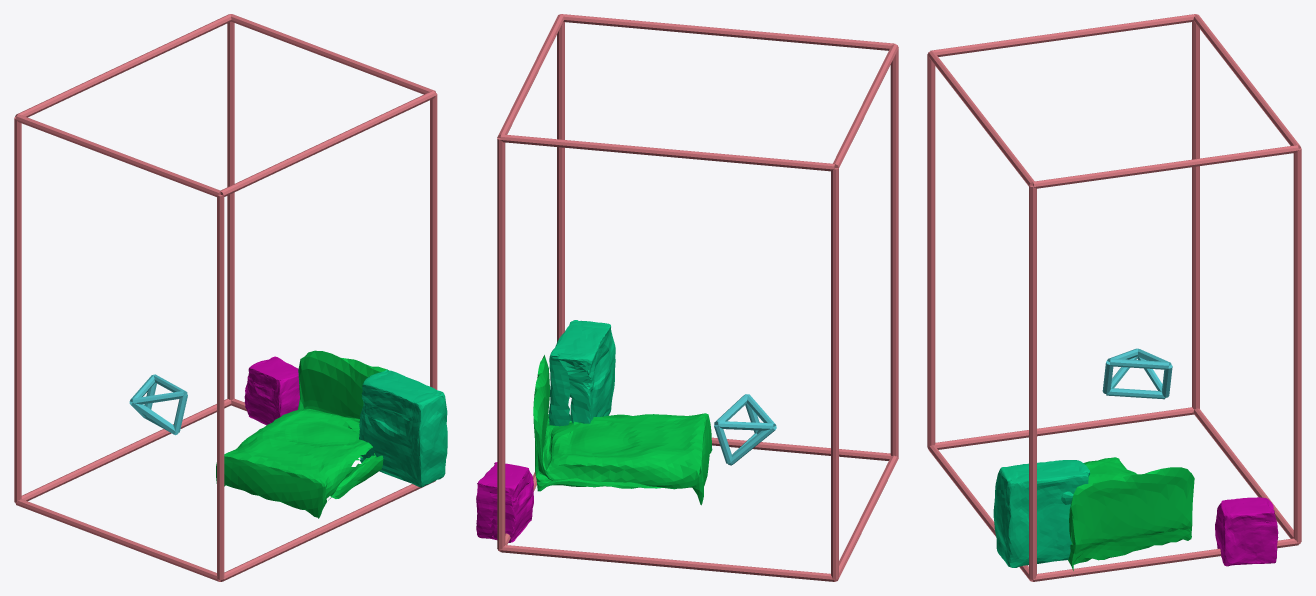
The picture shows the model from 3 angles, left to right: view 1: azimuth 30°, elevation 25°; view 2: azimuth 150°, elevation 25°; view 3: azimuth 270°, elevation 25°; orthographic projection. The views are drawn at different scales.
Parts seen in each view (by area): view 1: world; view 2: world; view 3: world.
Boxes of the visible parts, box(x1,y1,x2,y2) form: world: box(14, 14, 447, 581); world: box(476, 14, 898, 581); world: box(927, 14, 1301, 581).
Size of the model in its own units: 5.11 by 5.6 by 4.72.
